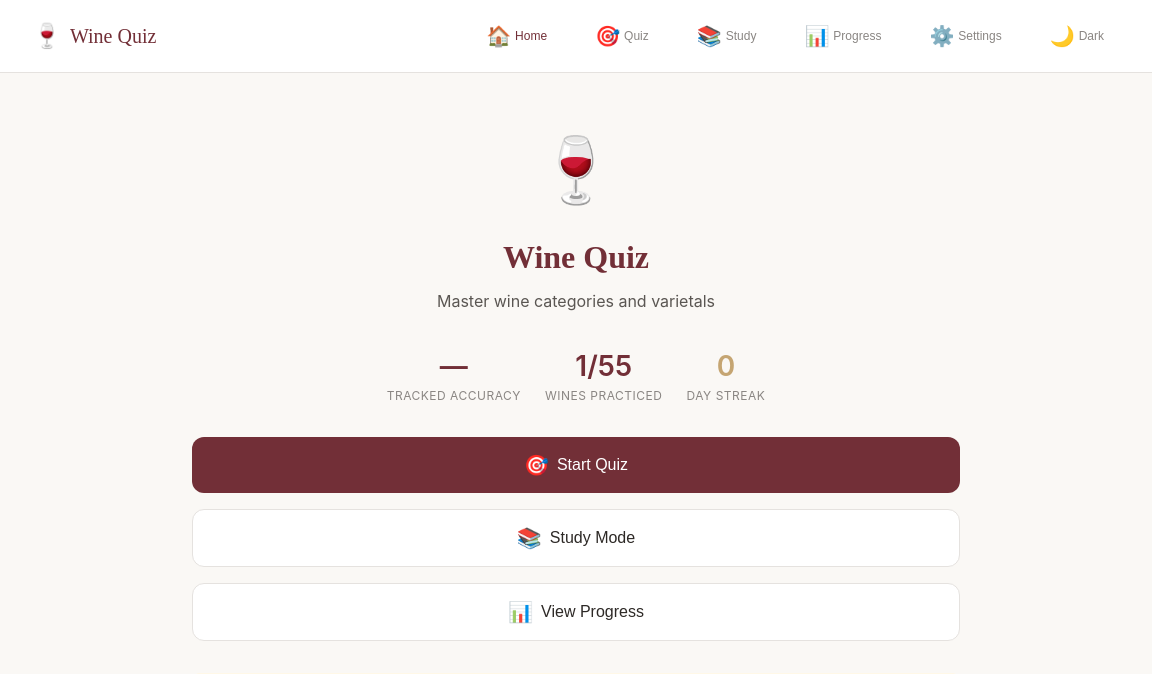
Test: App quiz navigation › opens configuration from the Quiz navigation item instead of showing Home
The width and height of the screenshot is (1152, 674).
Click the button "🎯 Quiz" at (622, 36), box [579,16,665,56]
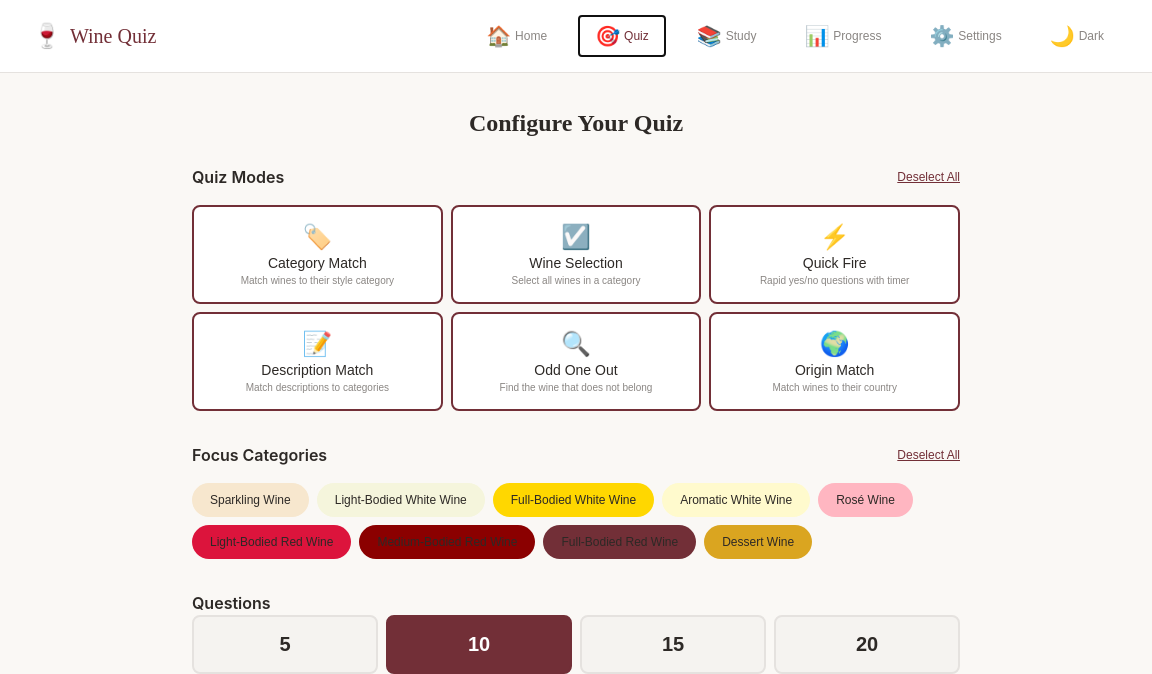
Expected: the heading "Configure Your Quiz" is shown, [469,110,683,136]
